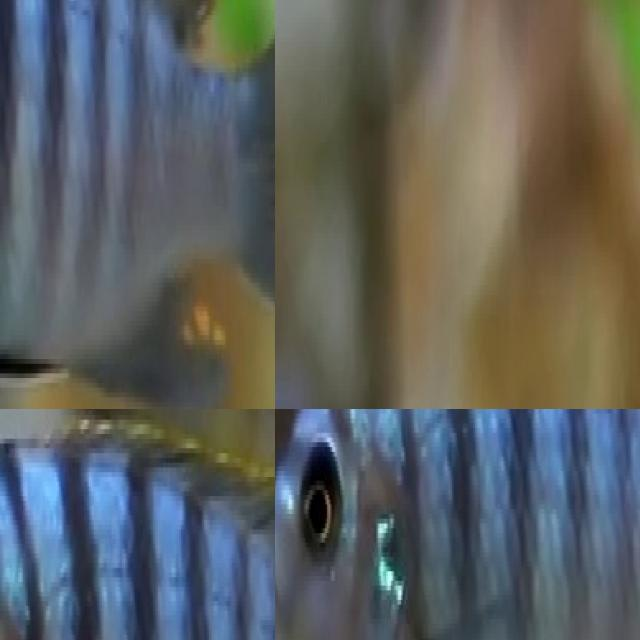fish: (0, 0, 275, 409), (275, 409, 640, 640), (0, 409, 275, 640)
